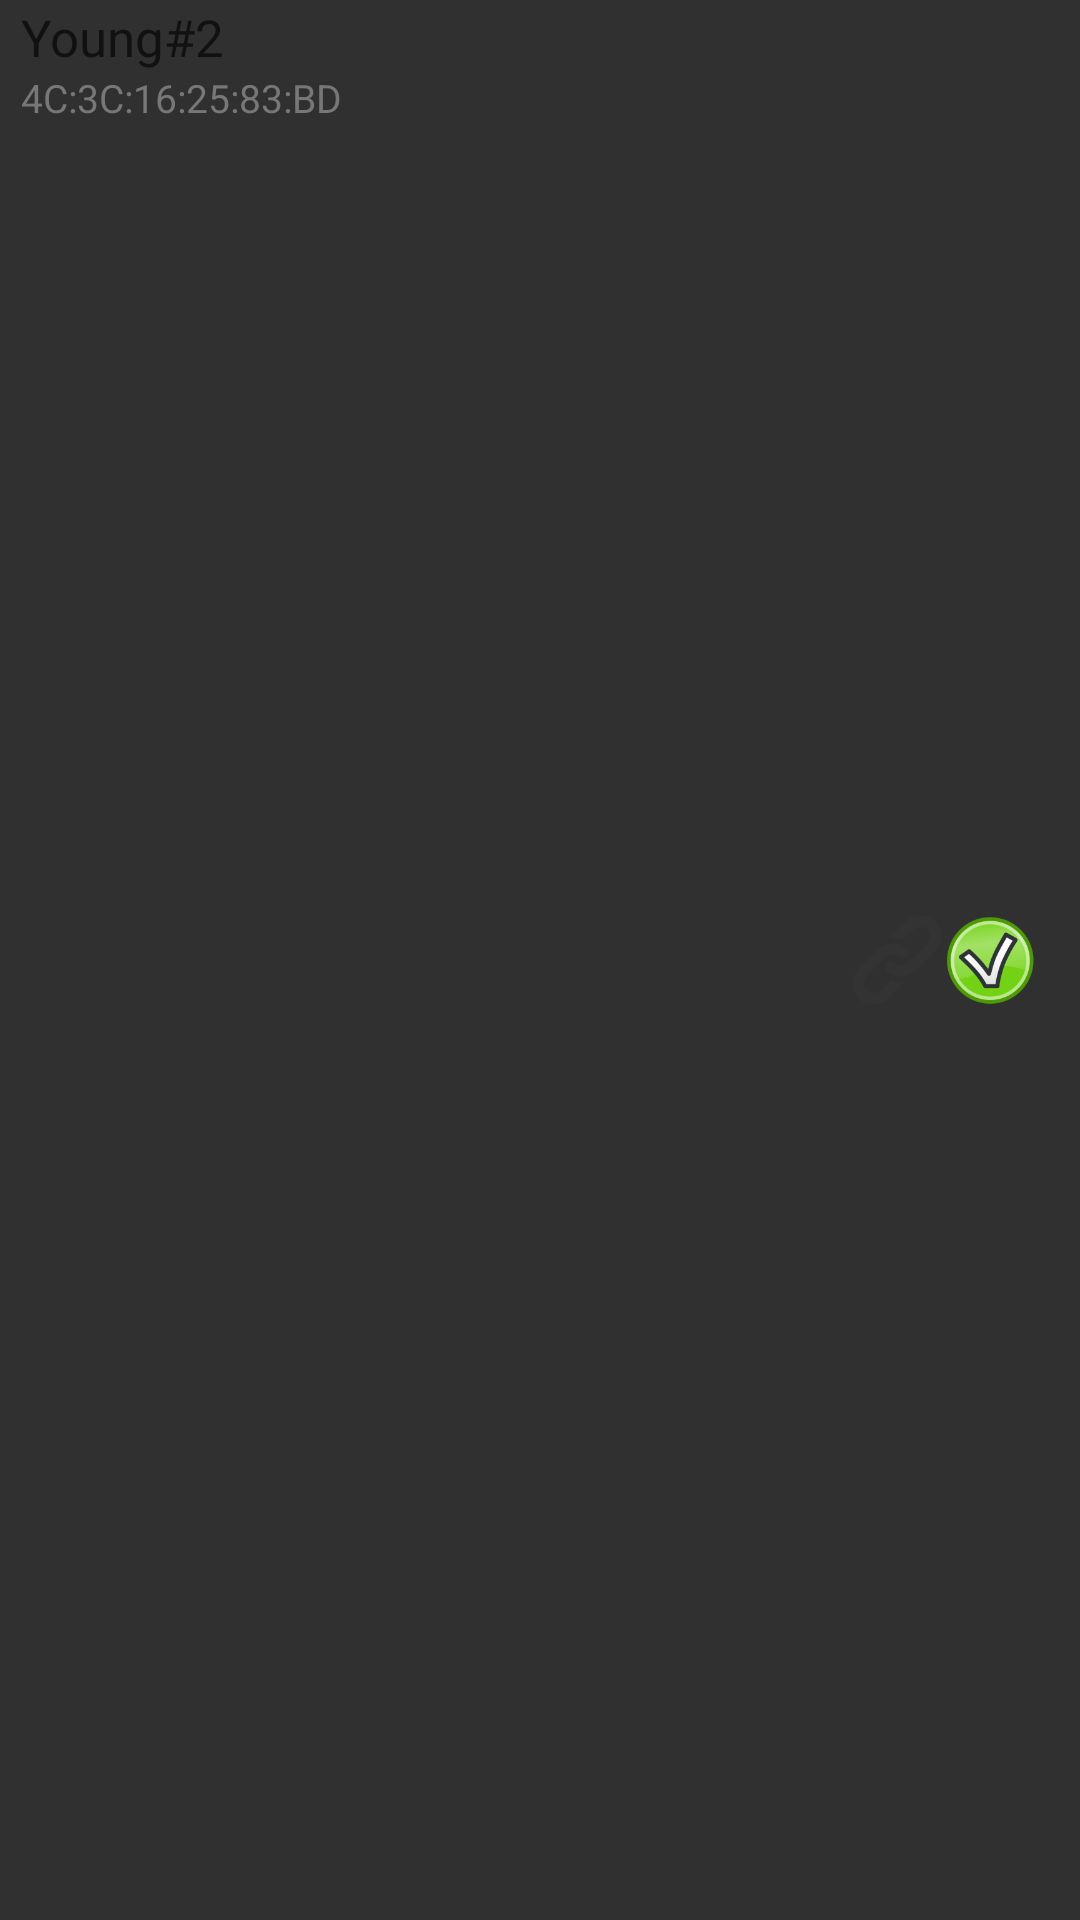

Point at icon controls on the screen. Image size 1080px x 1920px, points as [x,y].
Available device: [990,960]
